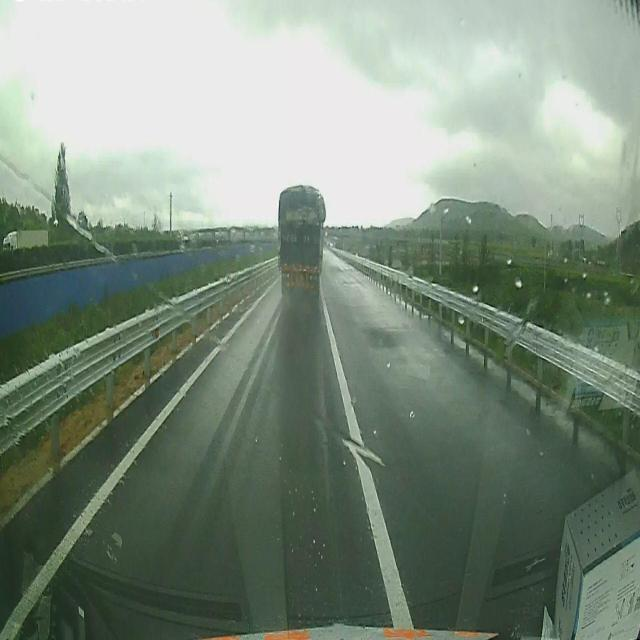car: (278, 185, 323, 295)
